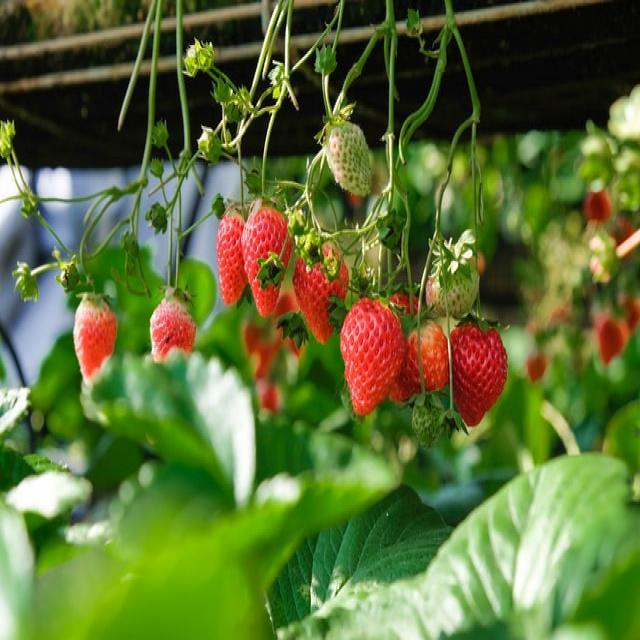ripe: (336, 297, 404, 418), (449, 310, 512, 430), (292, 232, 351, 344), (242, 195, 292, 314), (68, 284, 121, 386), (144, 289, 198, 377), (404, 314, 456, 396), (209, 198, 242, 310)
unripe: (312, 114, 379, 208), (422, 242, 484, 326)
